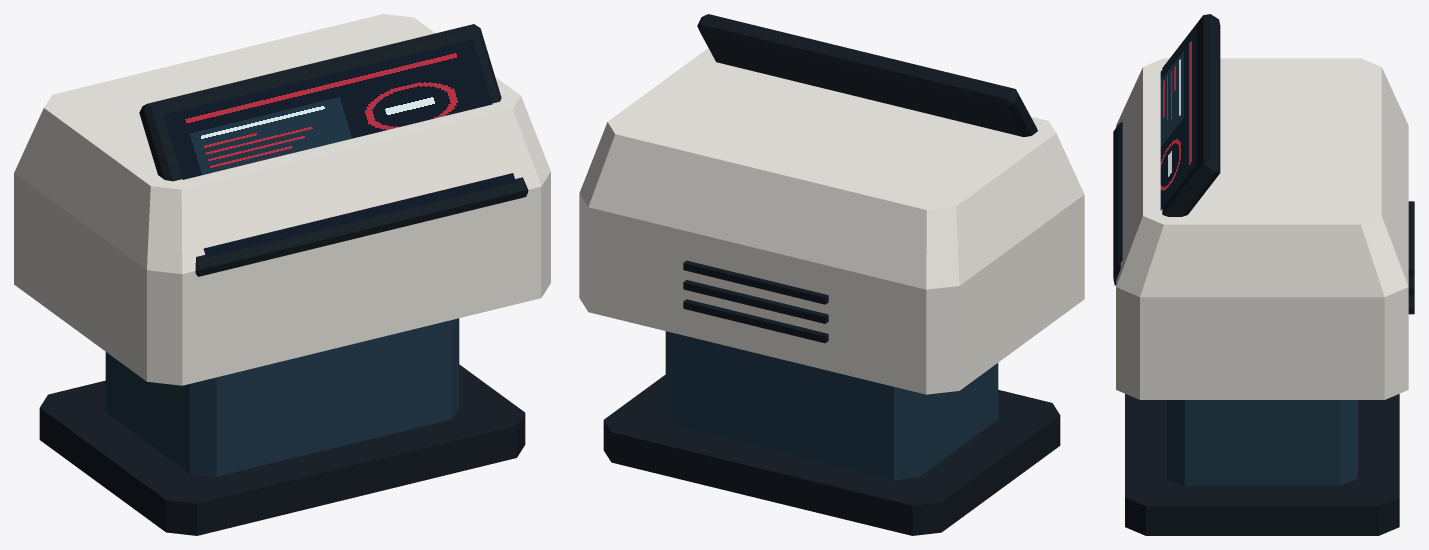
The model's file is terminal-console-standard-nakamura-lindahl.glb.
3 views of the same model, side by side, from view 1: azimuth 30°, elevation 25°; view 2: azimuth 150°, elevation 25°; view 3: azimuth 270°, elevation 25° (orthographic). The views are drawn at different scales.
Visible parts, largest first — view 1: Housing, Rubber, Trim, Display; view 2: Housing, Rubber, Trim; view 3: Housing, Rubber, Trim, Display.
Boxes of the visible parts, x1=… form: Housing: x1=14, y1=14, x2=550, y2=385; Rubber: x1=39, y1=24, x2=528, y2=535; Trim: x1=105, y1=318, x2=459, y2=476; Display: x1=163, y1=39, x2=515, y2=257; Housing: x1=579, y1=48, x2=1084, y2=394; Rubber: x1=603, y1=14, x2=1060, y2=535; Trim: x1=665, y1=331, x2=998, y2=480; Housing: x1=1116, y1=58, x2=1408, y2=399; Rubber: x1=1113, y1=14, x2=1414, y2=535; Trim: x1=1167, y1=400, x2=1357, y2=485; Display: x1=1117, y1=25, x2=1196, y2=266.
Bounding box in the file's own units: 0.72 × 0.6797 × 0.5046.
5 materials, 1 textured.
